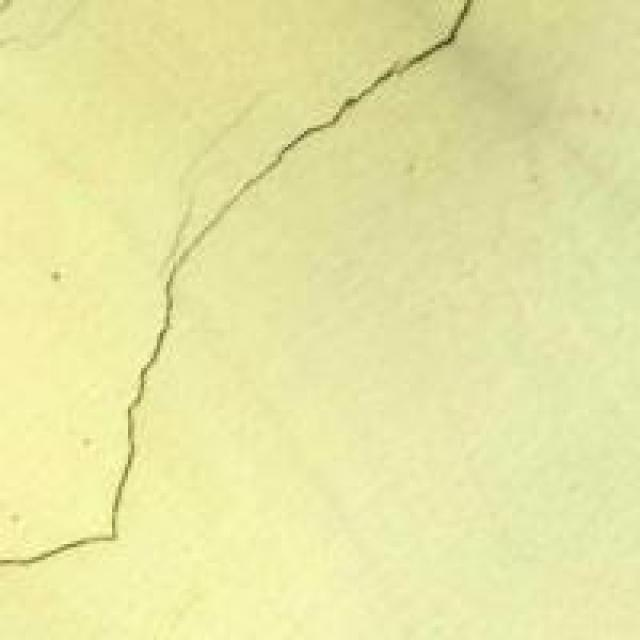Crack: (0, 0, 512, 573)
